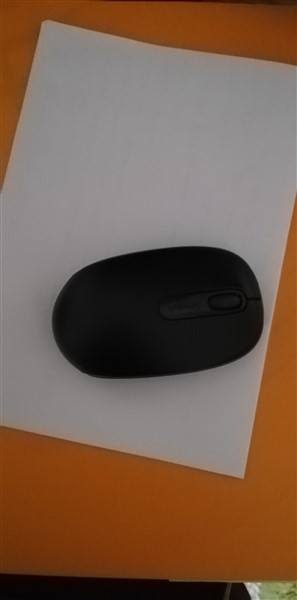mouse: (49, 238, 279, 384)
